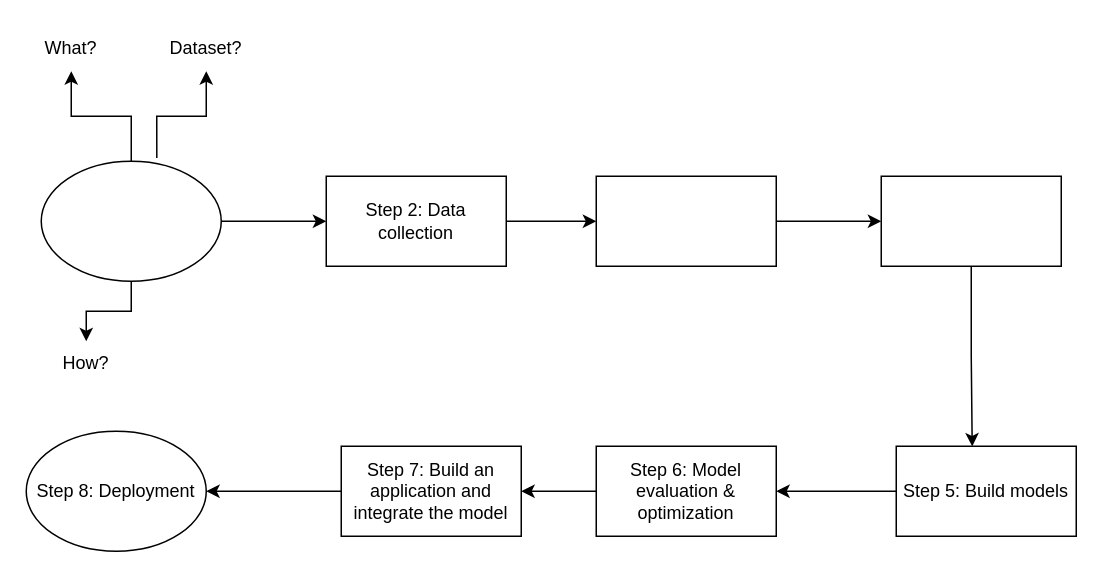
This 1103x578 diagram has some shape labels left out. Here are the shapes that lost their labels. From the top down, the centre of each, then its label:
[130,220]: Step 1: Problems
[685,220]: Step 3: Exploratory Data Analysis (EDA)
[970,220]: Step 4: Data preprocessing
